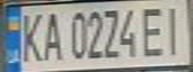0: (63, 7, 87, 61)
2: (84, 7, 106, 61)
4: (118, 4, 142, 58)
7: (103, 6, 121, 60)
A: (39, 8, 63, 62)
E: (139, 2, 169, 57)
I: (157, 2, 190, 56)
K: (15, 8, 45, 63)
